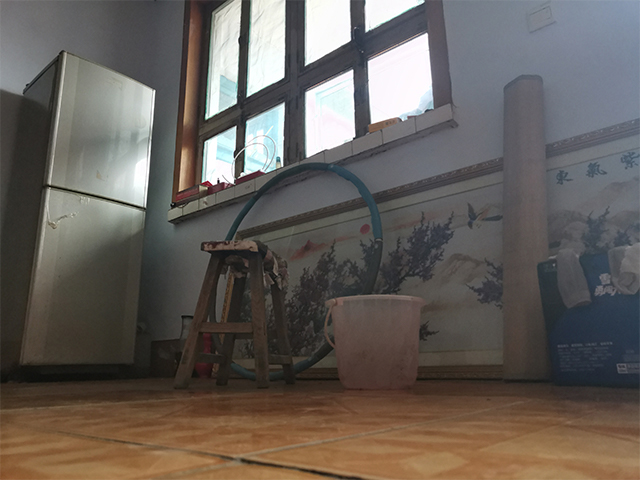stool: (171, 236, 299, 390)
trashcan: (322, 292, 427, 392)
